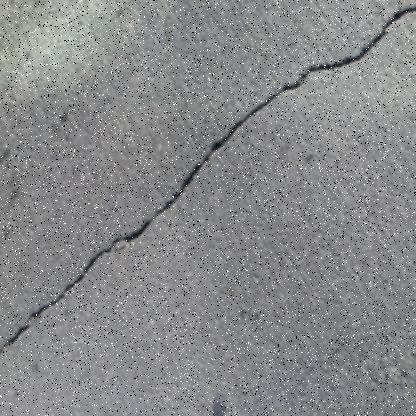Cracks: (0, 5, 415, 363)
